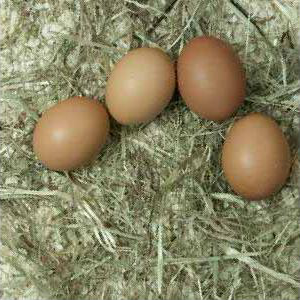egg: (220, 113, 289, 199), (34, 96, 112, 170), (177, 37, 246, 120), (105, 47, 177, 126)
